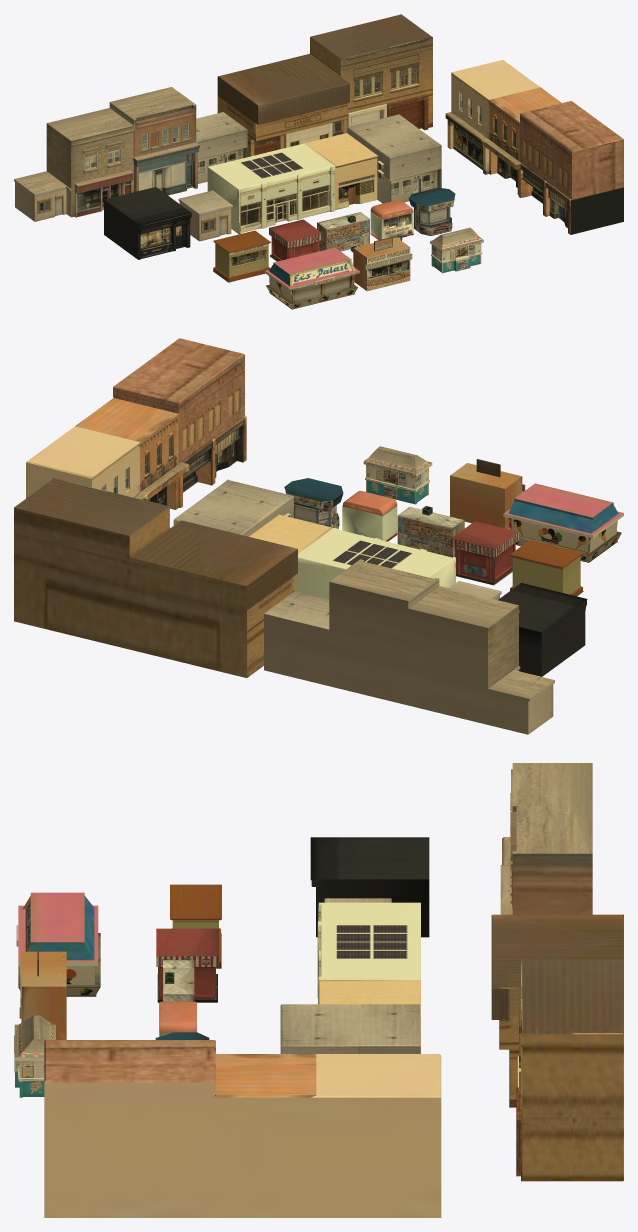
The model's file is bpak.glb.
3 renders of one model, top to bottom at view 1: azimuth 30°, elevation 25°; view 2: azimuth 150°, elevation 25°; view 3: azimuth 270°, elevation 25°, orthographic. The views are drawn at different scales.
Visible parts, largest first — view 1: Object_37, Object_31, Object_35, Object_28, Object_34, Object_25, Object_13, Object_11, Object_6, Object_29, Object_9, Object_15 (+6 smaller); view 2: Object_37, Object_34, Object_31, Object_35, Object_28, Object_13, Object_25, Object_6, Object_23, Object_11, Object_9, Object_21 (+4 smaller); view 3: Object_31, Object_37, Object_34, Object_35, Object_28, Object_25, Object_13, Object_6, Object_23, Object_9, Object_11, Object_17 (+2 smaller).
Boxes of the visible parts, x1,y1,x2,y2 form: Object_37: (14,87,441,241); Object_31: (445,60,623,234); Object_35: (217,14,431,155); Object_28: (207,133,377,234); Object_34: (217,14,432,156); Object_25: (104,187,191,259); Object_13: (264,247,359,309); Object_11: (213,230,270,282); Object_6: (353,237,411,291); Object_29: (241,175,373,225); Object_9: (430,227,483,273); Object_15: (408,187,455,235); Object_37: (173,479,554,734); Object_34: (14,478,294,677); Object_31: (26,338,246,509); Object_35: (15,478,297,610); Object_28: (249,514,455,599); Object_13: (503,483,623,562); Object_25: (498,583,587,676); Object_6: (450,459,525,528); Object_23: (450,521,518,585); Object_11: (510,540,583,596); Object_9: (363,446,432,504); Object_21: (397,506,464,557); Object_31: (44,1040,441,1217); Object_37: (280,763,592,1053); Object_34: (499,915,623,1181); Object_35: (491,914,623,1087); Object_28: (317,902,420,1053); Object_25: (310,837,429,937); Object_13: (16,892,100,996); Object_6: (20,945,66,1039); Object_23: (156,928,218,1002); Object_9: (14,1015,55,1097); Object_11: (170,884,221,968); Object_17: (336,925,407,958).
Size of the model in its own units: 48.12 by 9.51 by 34.9.
19 materials, 19 textured.
